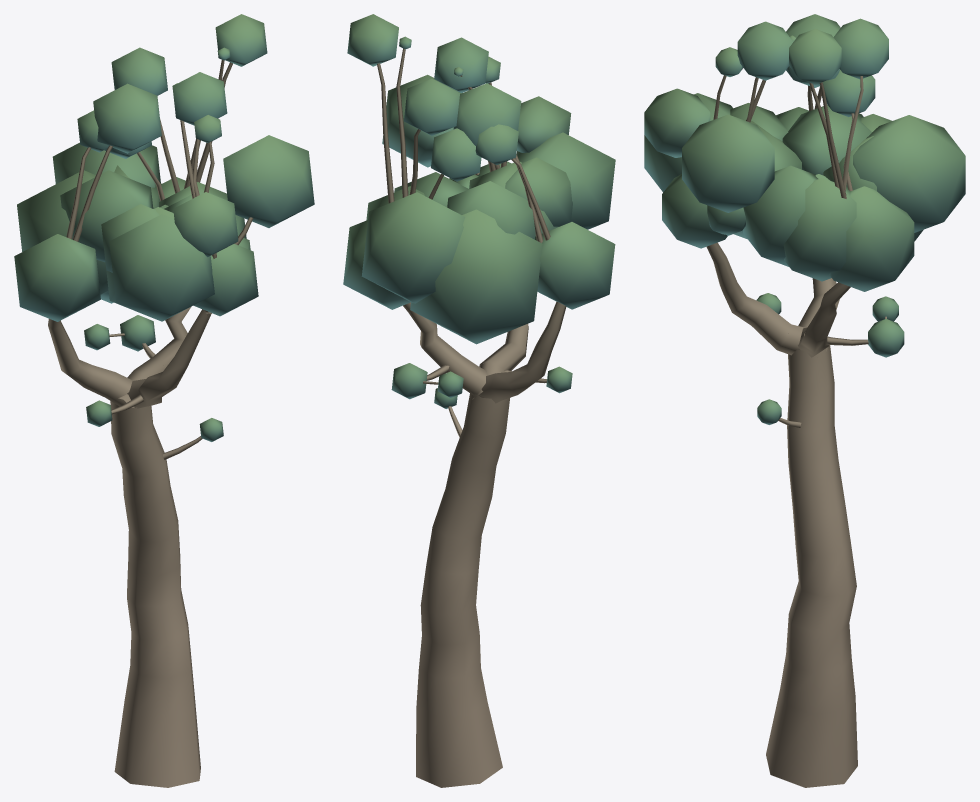
File: seed_tree_e.glb
3 renders of one model, left to right at view 1: azimuth 30°, elevation 25°; view 2: azimuth 150°, elevation 25°; view 3: azimuth 270°, elevation 25°, orthographic. The views are drawn at different scales.
Parts seen in each view (by area): view 1: seed_tree_e_LOD0; view 2: seed_tree_e_LOD0; view 3: seed_tree_e_LOD0.
Boxes of the visible parts, <box> form: seed_tree_e_LOD0: <box>14,14,314,787</box>; seed_tree_e_LOD0: <box>343,14,615,787</box>; seed_tree_e_LOD0: <box>644,14,965,787</box>.
Size of what is drawn, in the model's own units: 5.05 by 13.99 by 5.19.
